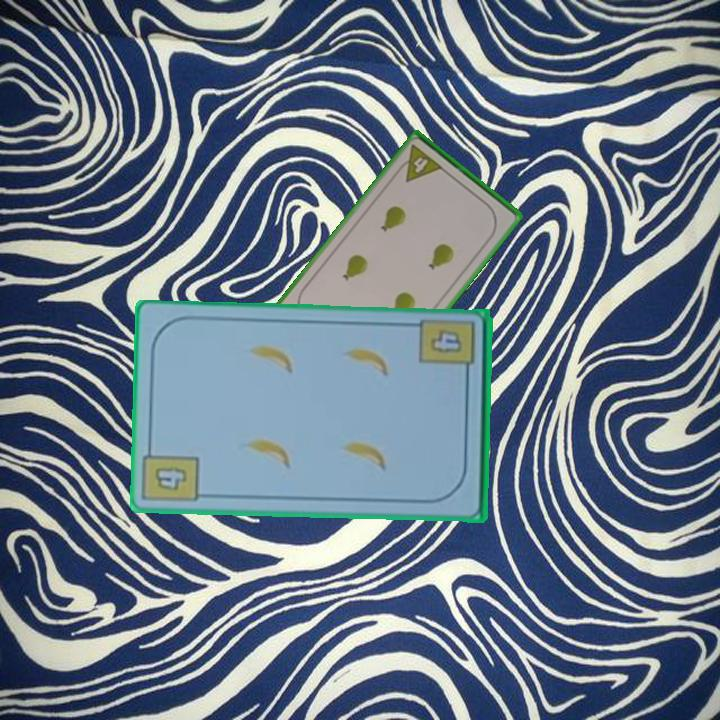4b: (141, 441, 202, 506), (426, 326, 465, 357)
4p: (393, 141, 446, 185)
